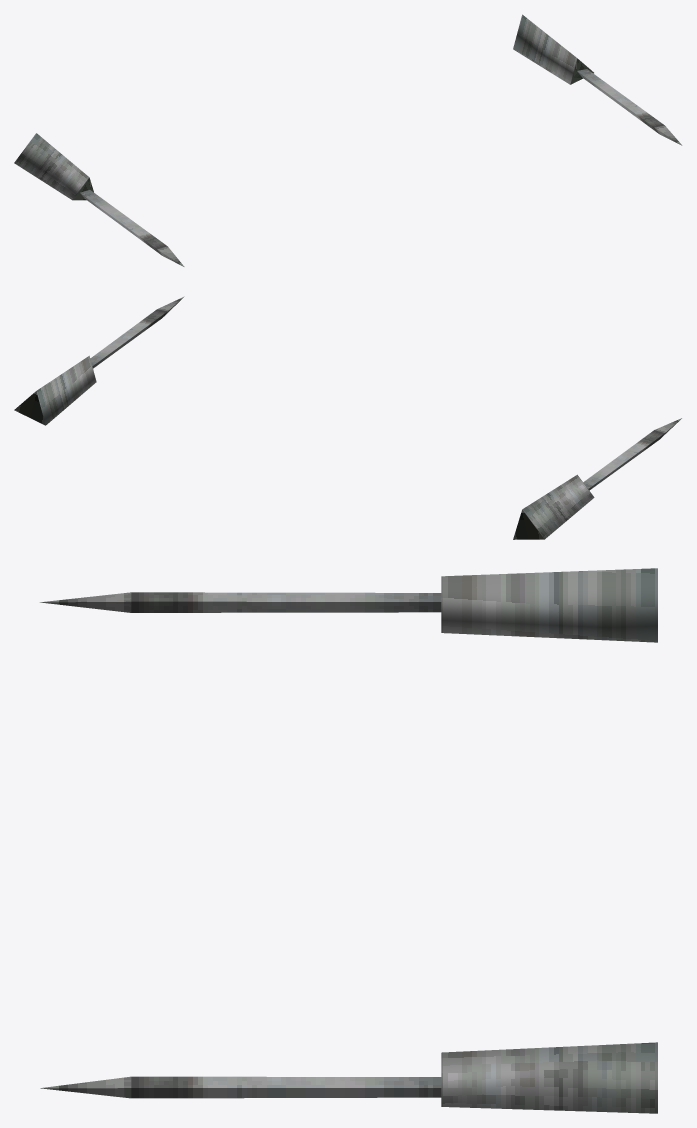
File: black_sun_fighter_medium_weapon2_s05_l3.fbx
3 renders of one model, top to bottom at view 1: azimuth 30°, elevation 25°; view 2: azimuth 150°, elevation 25°; view 3: azimuth 270°, elevation 25°, orthographic. The views are drawn at different scales.
Parts seen in each view (by area): view 1: mesh_node; view 2: mesh_node; view 3: mesh_node.
Boxes of the visible parts, x1,y1,x2,y2 form: mesh_node: (14,14,682,266); mesh_node: (14,296,681,539); mesh_node: (40,568,657,1113).
Size of the model in its own units: 7.34 by 0.4322 by 3.71.
Materials: 1 (1 with a texture image).
